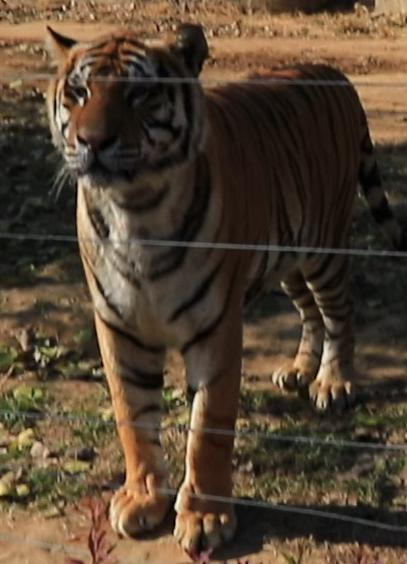tiger: (47, 23, 393, 556)
